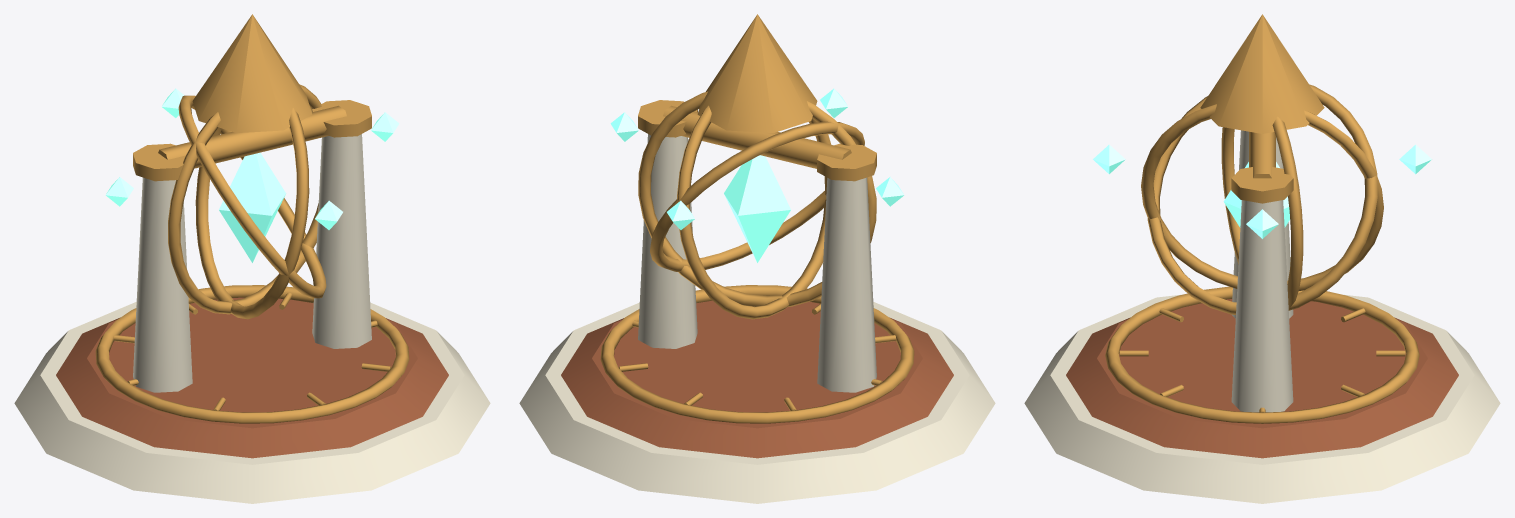
The model's file is station-3.glb.
3 renders of one model, left to right at view 1: azimuth 30°, elevation 25°; view 2: azimuth 150°, elevation 25°; view 3: azimuth 270°, elevation 25°, orthographic.
Visible parts, largest first — view 1: chalk-sail-merged, ochre-ceramic-merged, aged-brass-merged, aether-glass-merged; view 2: chalk-sail-merged, ochre-ceramic-merged, aged-brass-merged, aether-glass-merged; view 3: chalk-sail-merged, ochre-ceramic-merged, aged-brass-merged, aether-glass-merged.
Boxes of the visible parts, x1,y1,x2,y2 form: chalk-sail-merged: [14, 134, 490, 503]; ochre-ceramic-merged: [56, 297, 448, 458]; aged-brass-merged: [95, 14, 409, 423]; aether-glass-merged: [105, 88, 399, 262]; chalk-sail-merged: [519, 134, 995, 503]; ochre-ceramic-merged: [561, 300, 953, 458]; aged-brass-merged: [600, 14, 914, 423]; aether-glass-merged: [610, 88, 904, 262]; chalk-sail-merged: [1024, 130, 1500, 503]; ochre-ceramic-merged: [1066, 299, 1458, 458]; aged-brass-merged: [1105, 14, 1419, 423]; aether-glass-merged: [1093, 144, 1431, 238].
Size of the model in its own units: 4.6 by 4.15 by 4.6.
